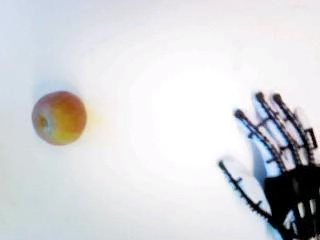apple: (29, 91, 86, 145)
hand: (218, 91, 320, 240)
